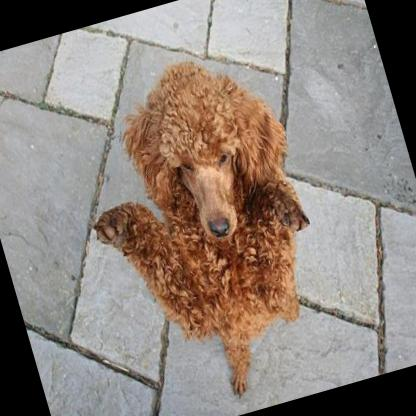miniature_poodle: (51, 34, 350, 416)
